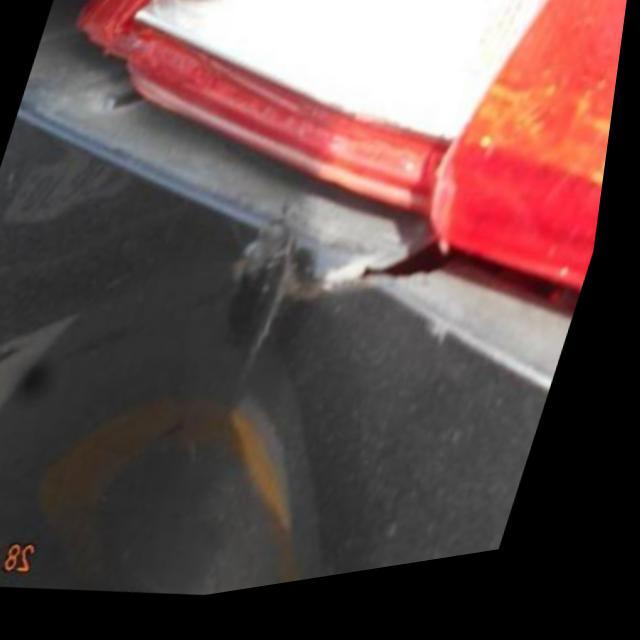crack: (338, 251, 471, 303)
dent: (222, 229, 367, 331)
